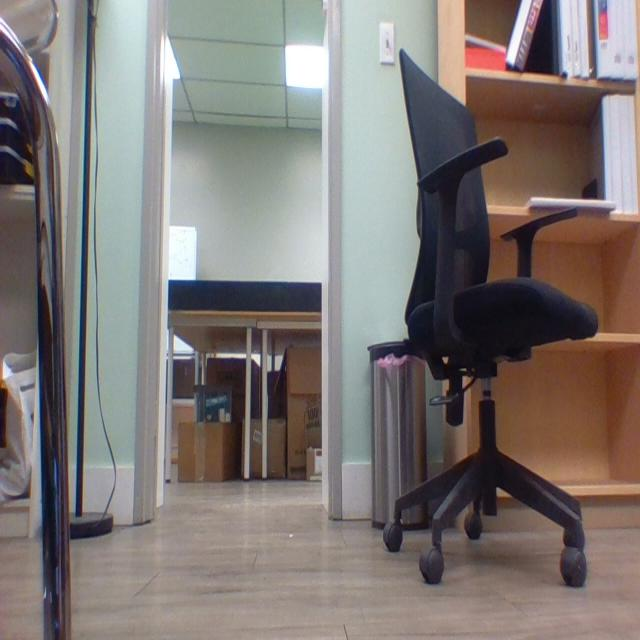black-chair: (402, 48, 590, 639)
